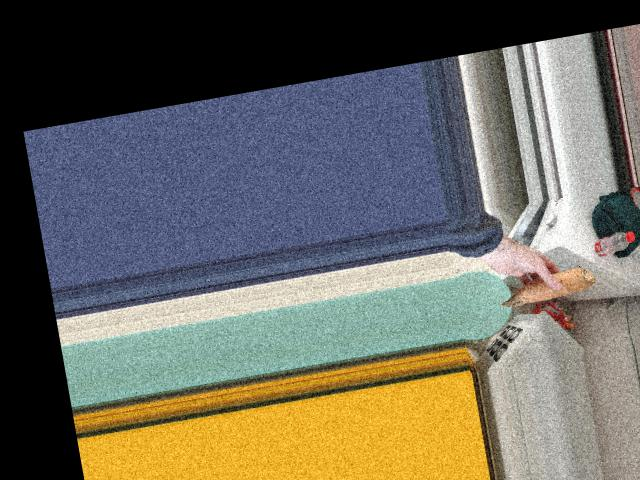sweet_potato: (501, 264, 596, 306)
